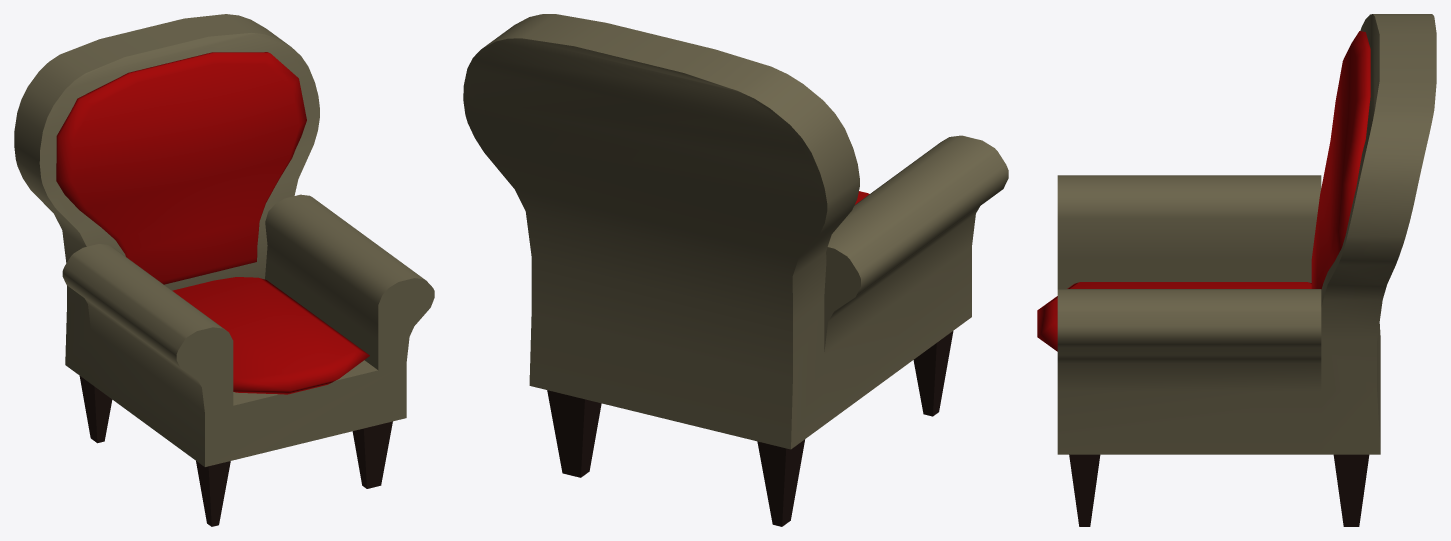
Rendered from BigChair.FBX.
3 views of the same model, side by side, from view 1: azimuth 30°, elevation 25°; view 2: azimuth 150°, elevation 25°; view 3: azimuth 270°, elevation 25° (orthographic). The views are drawn at different scales.
Parts seen in each view (by area): view 1: Box001, back, Box002; view 2: Box001; view 3: Box001, back, Box002.
Part boxes in pixels (x1,y1,x2,y2): Box001: (14,14,434,526); back: (56,52,306,284); Box002: (172,277,369,394); Box001: (463,14,1008,526); Box001: (1057,14,1436,526); back: (1311,31,1370,289); Box002: (1037,282,1311,351).
Bounding box in the file's own units: 34.6 × 43.17 × 37.09.
